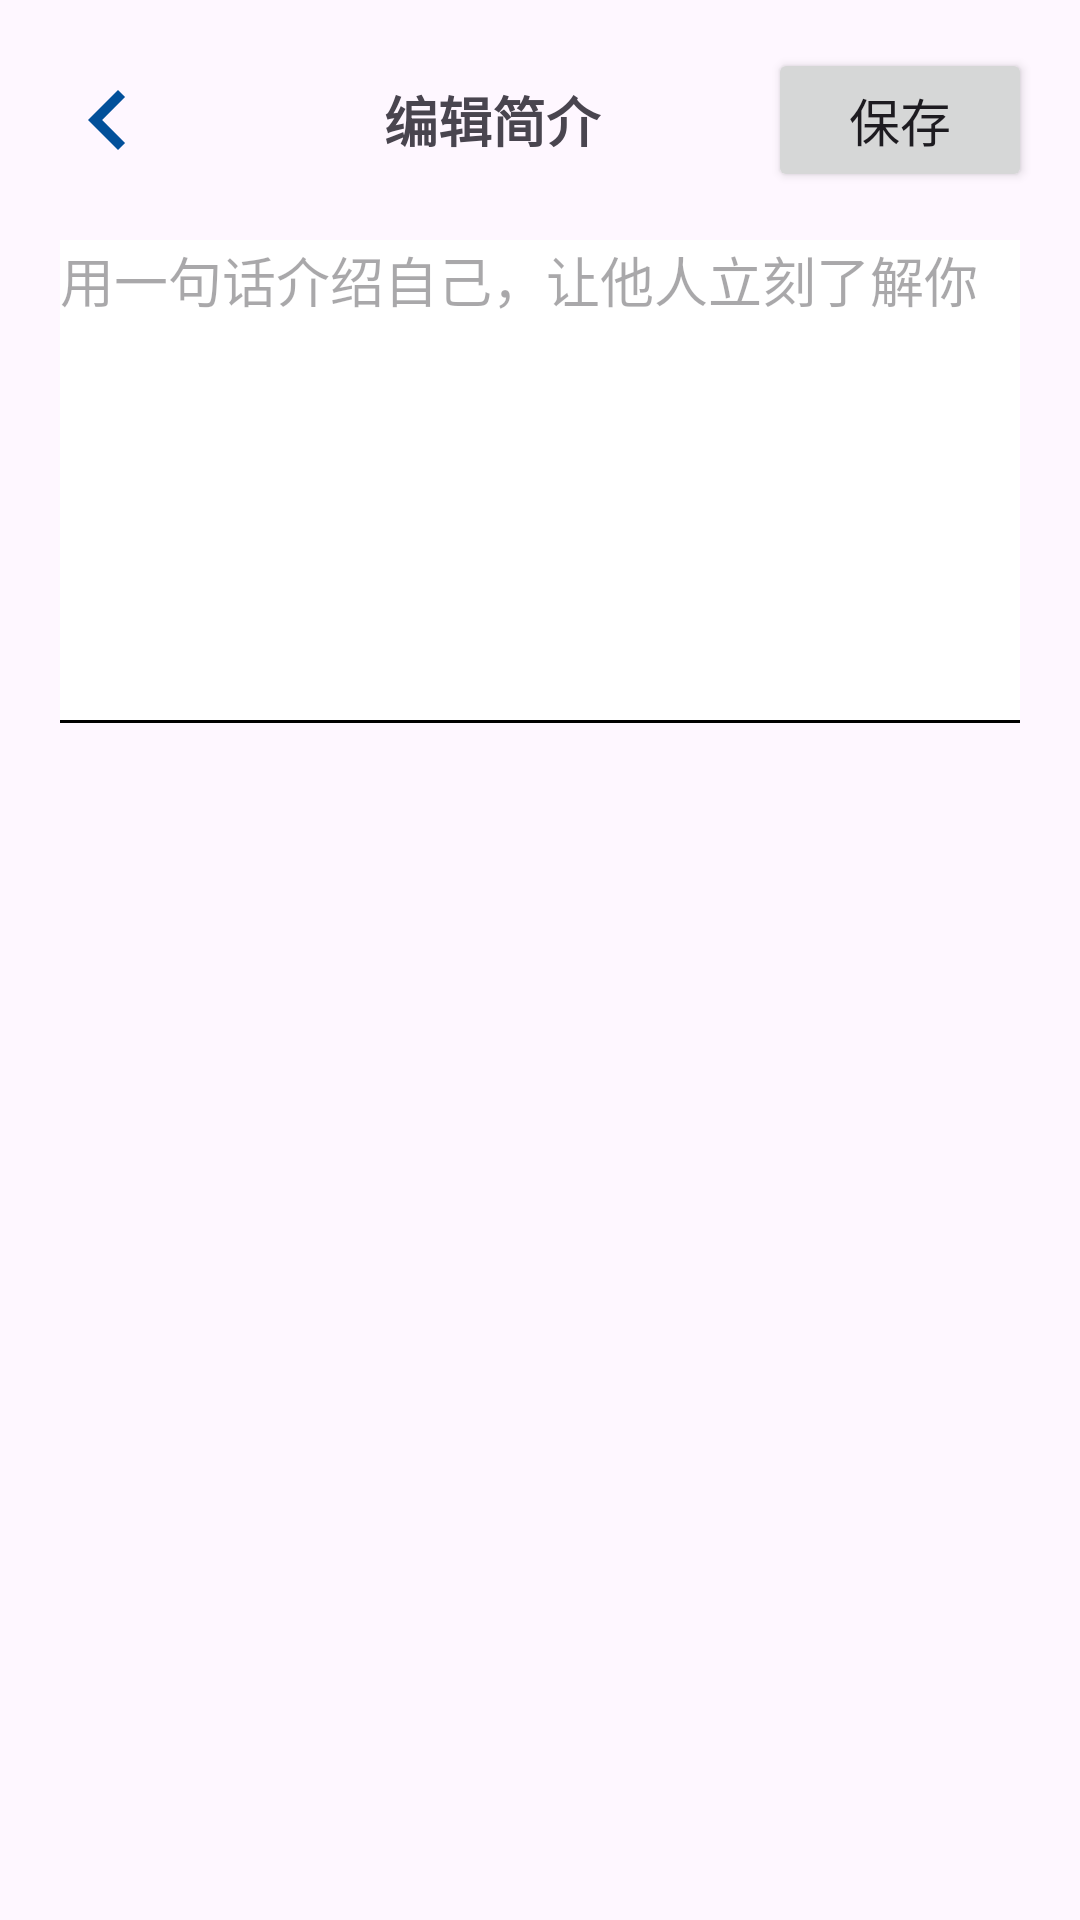

Icon click points for this 1080*1920 phone screenshot, format (x=x, y=y):
返回: (x=106, y=120)
